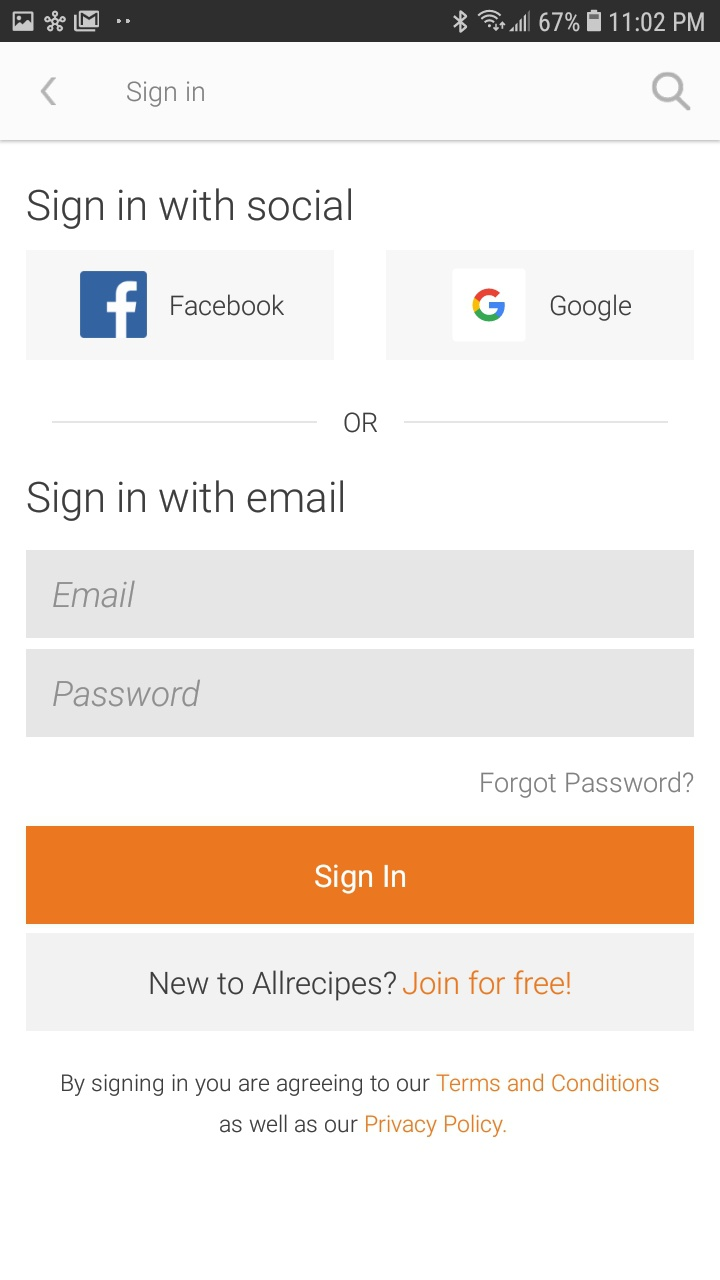EditText: (26, 550, 694, 639), (26, 649, 694, 738)
Icon: (651, 72, 691, 112), (42, 77, 58, 107)
Text: (62, 1073, 660, 1138), (28, 188, 352, 230), (28, 480, 344, 522), (481, 771, 694, 799), (54, 679, 201, 707), (54, 581, 136, 609), (128, 82, 206, 109), (344, 412, 378, 434)
TextButton: (27, 933, 695, 1032), (27, 826, 695, 925), (26, 250, 335, 361), (386, 250, 694, 361)
UpperTaskBar: (1, 1, 720, 43)
